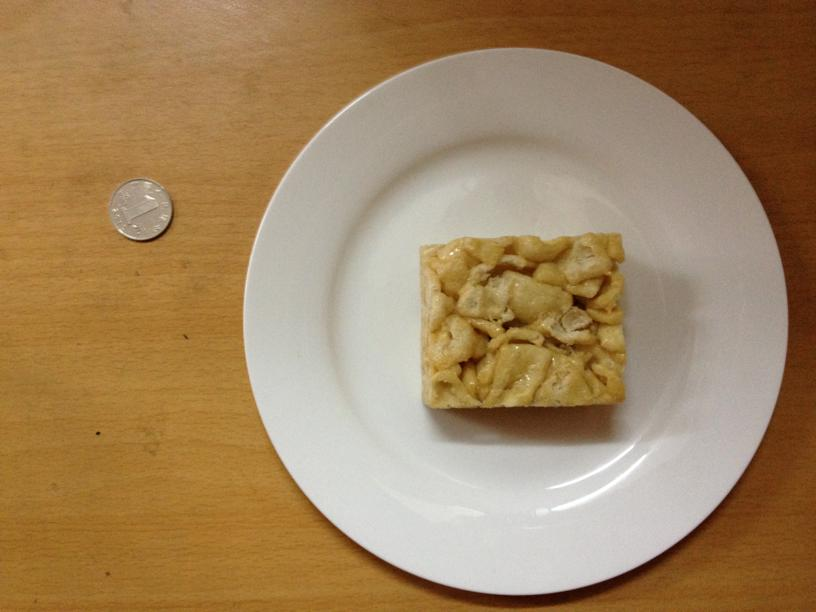coin: (112, 180, 172, 240)
sachima: (410, 231, 628, 410)
